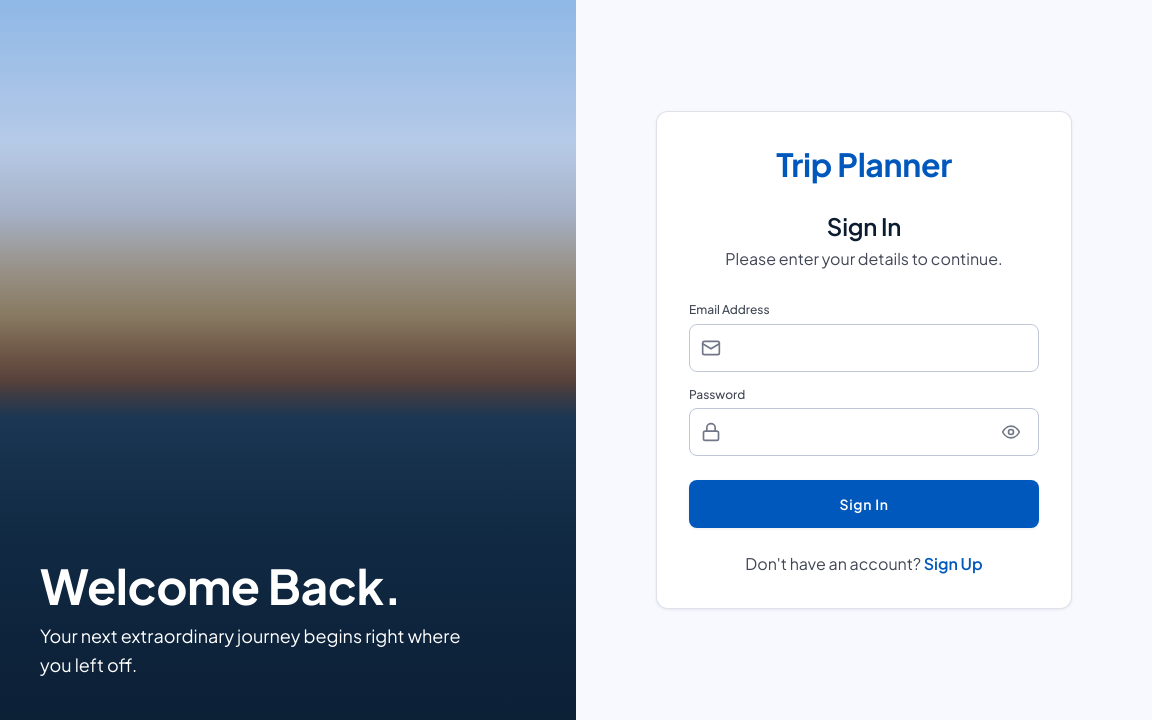
it: LoginPage › toggles password visibility without clearing the value
The image size is (1152, 720).
Type "secret123" into the password field labelled "Password" at (864, 432), box x1=689 y1=408 x2=1039 y2=456
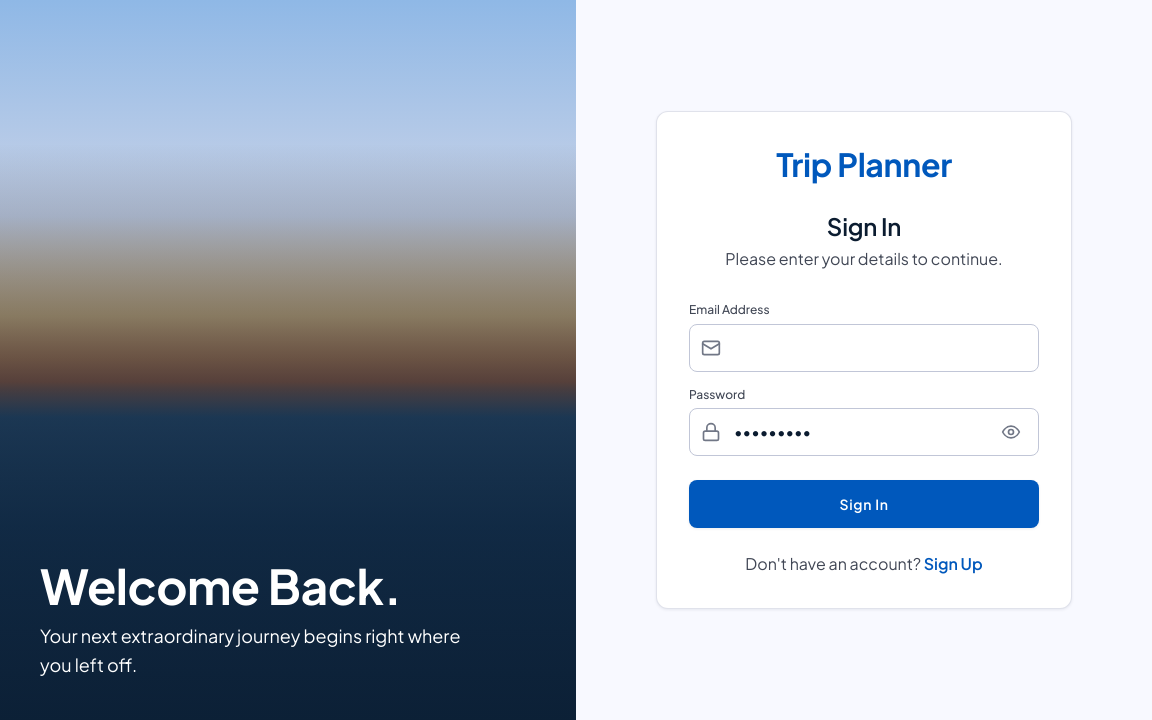
Click the button named "Show password" at (1011, 432), box x1=989 y1=410 x2=1033 y2=454
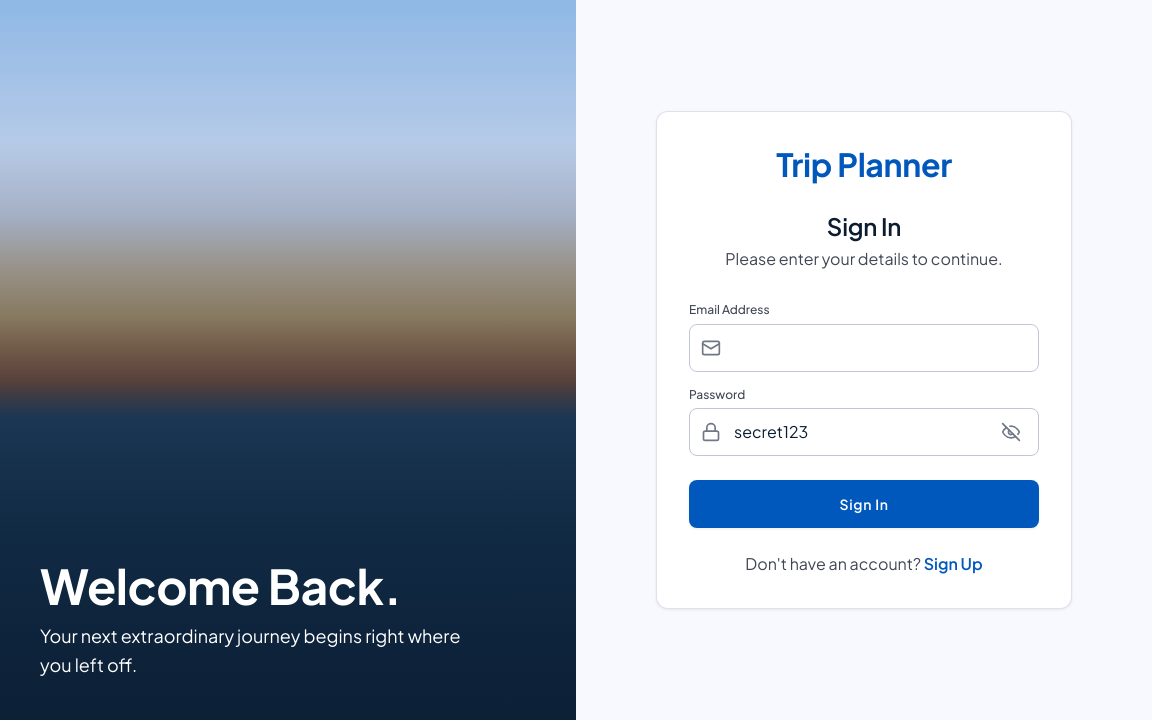
Expected: the field labelled "Password" shows its text, x1=689 y1=408 x2=1039 y2=456
Click the button named "Hide password" at (1011, 432), box x1=989 y1=410 x2=1033 y2=454
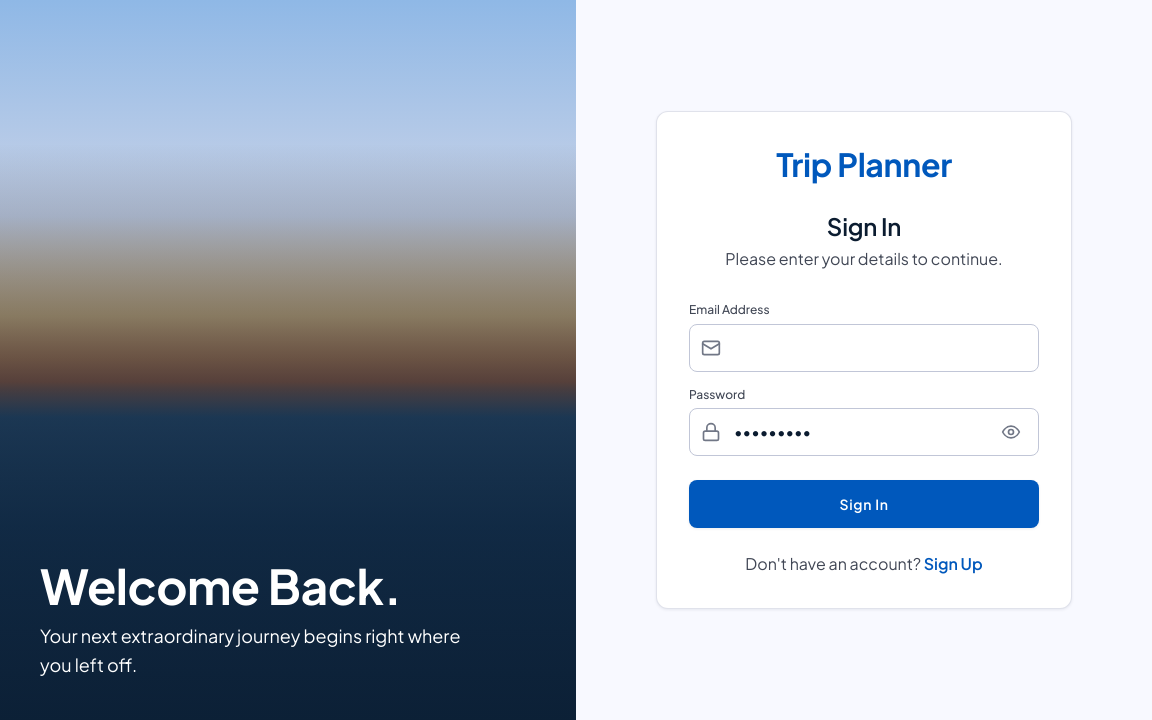
Expected: the password field labelled "Password" hides its text, x1=689 y1=408 x2=1039 y2=456
